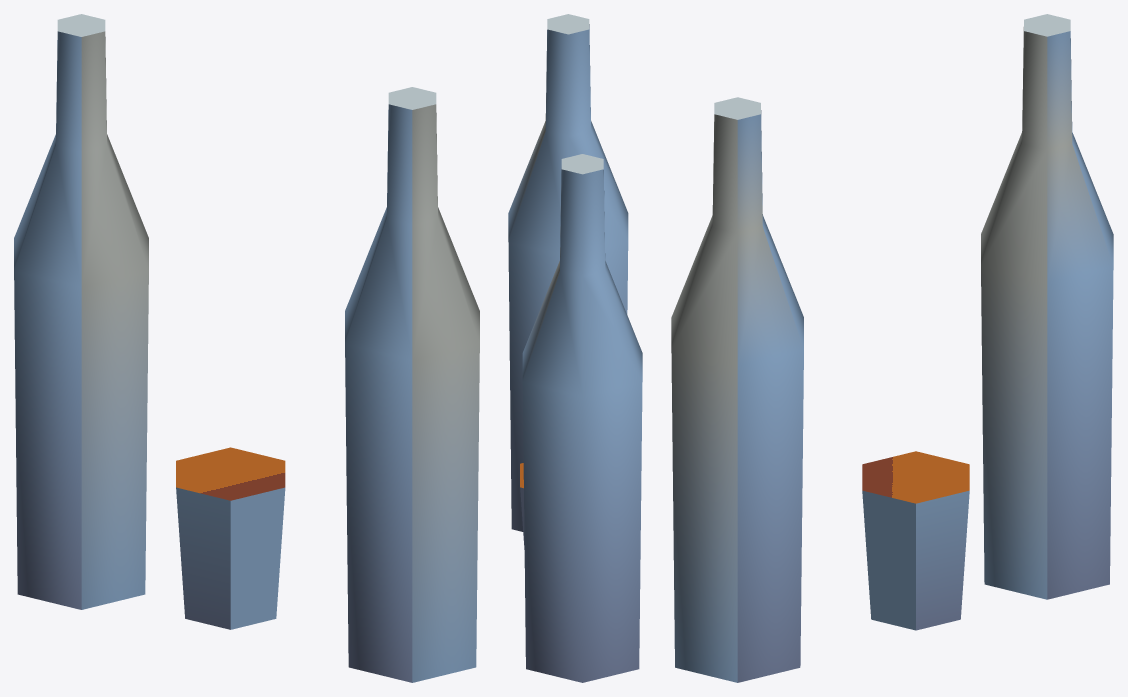
Rendered from wprop.bottles.glb.
The picture shows the model from 3 angles, left to right: view 1: azimuth 30°, elevation 25°; view 2: azimuth 150°, elevation 25°; view 3: azimuth 270°, elevation 25°; orthographic projection. The views are drawn at different scales.
Parts seen in each view (by area): view 1: kit_bottles, kit_glasses; view 2: kit_bottles, kit_glasses; view 3: kit_bottles, kit_glasses.
Boxes of the visible parts, x1,y1,x2,y2 form: kit_bottles: (14,14,479,682); kit_glasses: (176,447,285,629); kit_bottles: (508,14,642,682); kit_glasses: (520,463,524,549); kit_bottles: (671,14,1113,682); kit_glasses: (862,451,969,630).
Bounding box in the file's own units: 0.1692 × 0.29 × 0.2137.
Materials: 2 (1 with a texture image).
